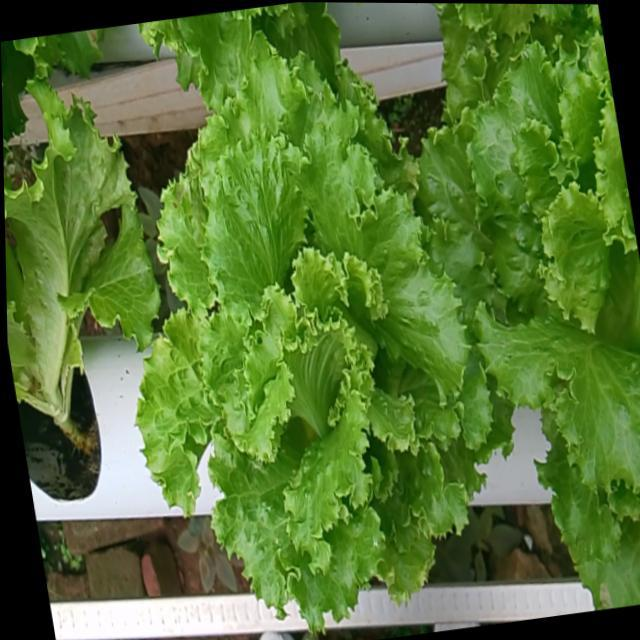Mature: (139, 59, 495, 631), (421, 48, 640, 507)
